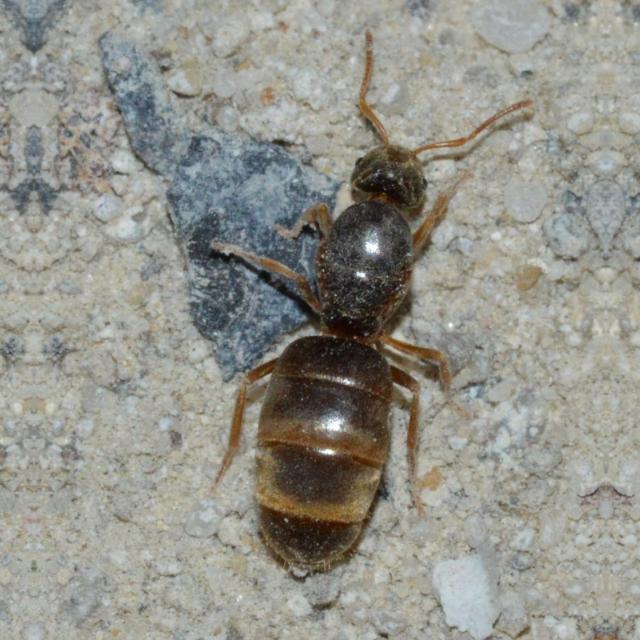Lasius: (162, 89, 500, 596)
